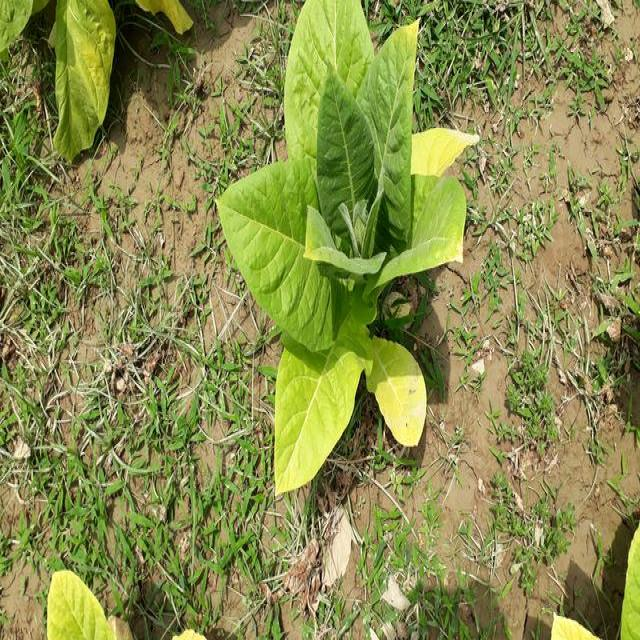crop: (210, 0, 486, 507)
